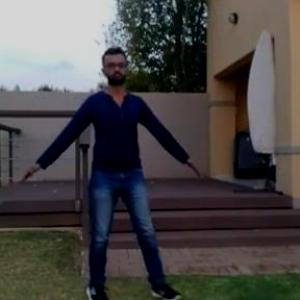land: (25, 54, 199, 299)
